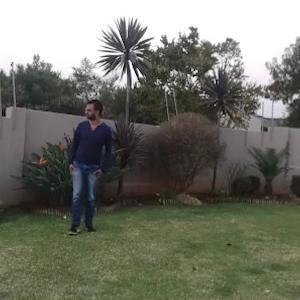follow: (67, 95, 108, 238)
